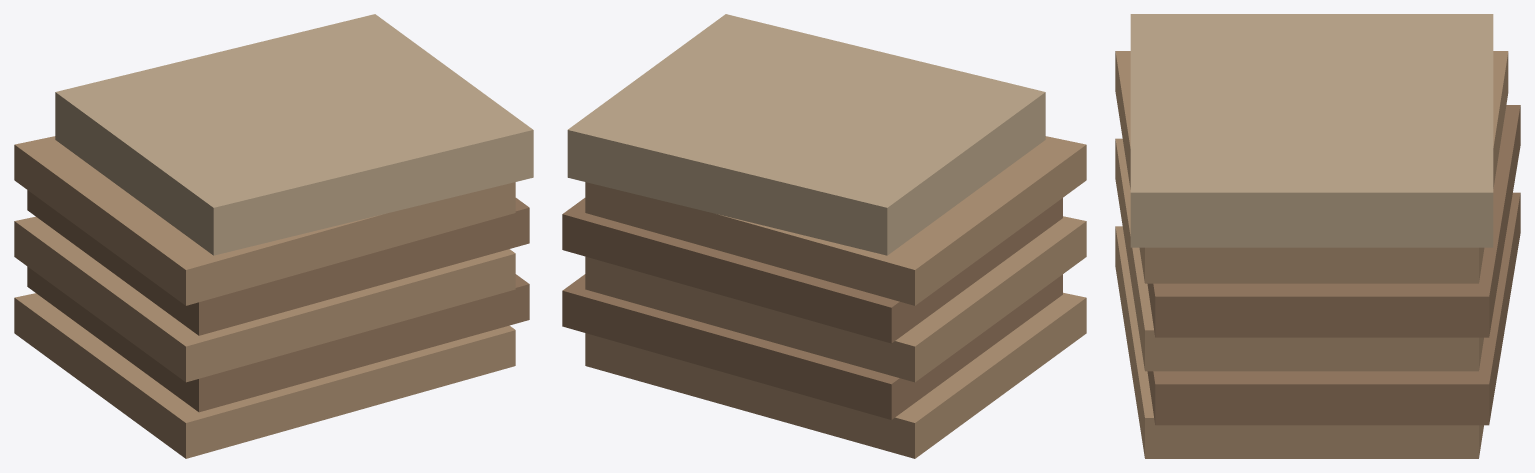
File: prop-heel-lift-blank.fbx
3 renders of one model, left to right at view 1: azimuth 30°, elevation 25°; view 2: azimuth 150°, elevation 25°; view 3: azimuth 270°, elevation 25°, orthographic. The views are drawn at different scales.
Visible parts, largest first — view 1: prop-heel-lift-blank; view 2: prop-heel-lift-blank; view 3: prop-heel-lift-blank.
Part boxes in pixels (x1,y1,x2,y2): prop-heel-lift-blank: (14, 14, 533, 458); prop-heel-lift-blank: (562, 14, 1086, 458); prop-heel-lift-blank: (1115, 14, 1520, 458).
Size of the model in its own units: 7.9 by 4.98 by 6.7.
